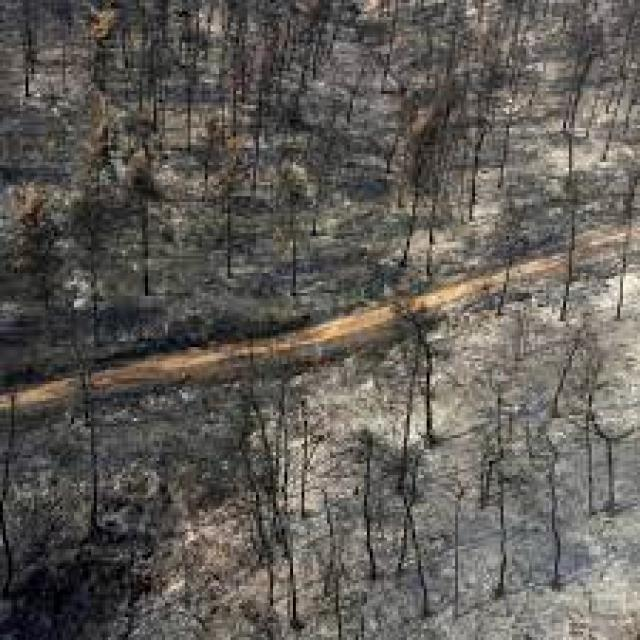Forest Fire: (280, 293, 639, 640)
